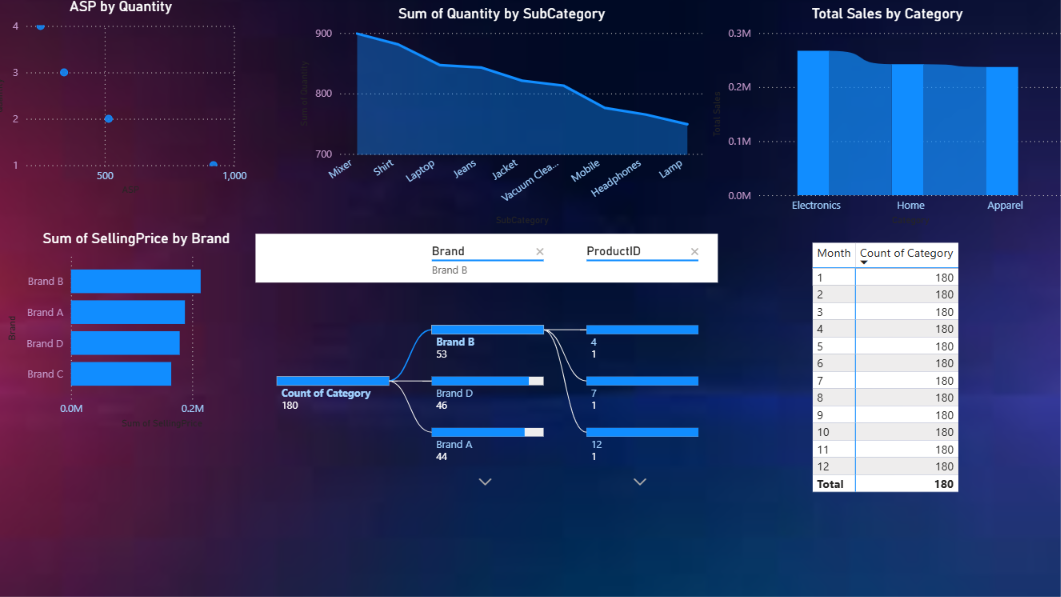

Layout of this report page (visuals, bound fields, positions):
{"tool":"powerbi","page":{"name":"Product & Category","canvas":[1280,720],"ordinal":2},"visuals":[{"type":"scatterChart","fields":{"X":["Measures (2).ASP"],"Y":["Sales_Fact.Quantity"]},"box":[0,9.3,303.5,234.9],"z":0},{"type":"barChart","fields":{"Category":["Product_Dim.Brand"],"Y":["Sum(Product_Dim.SellingPrice)"]},"box":[15.1,279.1,309.3,236],"z":1000},{"type":"areaChart","fields":{"Category":["Product_Dim.SubCategory"],"Y":["Sum(Sales_Fact.Quantity)"]},"box":[354.7,17.4,480.2,261.6],"z":2000},{"type":"ribbonChart","fields":{"Category":["Product_Dim.Category"],"Y":["Measures (2).Total Sales"]},"box":[834.9,17.4,416.3,261.6],"z":3000},{"type":"decompositionTreeVisual","fields":{"Analyze":["CountNonNull(Product_Dim.Category)"],"ExplainBy":["Product_Dim.Brand","Product_Dim.ProductID"]},"box":[303.5,279.1,547.7,314],"z":4000},{"type":"pivotTable","fields":{"Rows":["Calendar_Dim.Month"],"Values":["CountNonNull(Product_Dim.Category)"]},"box":[951.2,289.5,183.7,303.5],"z":5000}]}

Visuals, with their boxes in screenshot pixels (x1, y1, x2, y2), scaled from the page's 1280x720 canvas onto the 1061x597 screenshot:
scatterChart - Measures (2).ASP x Sales_Fact.Quantity: <box>0,8,252,202</box>
barChart - Product_Dim.Brand x Sum(Product_Dim.SellingPrice): <box>13,231,269,427</box>
areaChart - Product_Dim.SubCategory x Sum(Sales_Fact.Quantity): <box>294,14,692,231</box>
ribbonChart - Product_Dim.Category x Measures (2).Total Sales: <box>692,14,1037,231</box>
decompositionTreeVisual - CountNonNull(Product_Dim.Category) x Product_Dim.Brand: <box>252,231,706,492</box>
pivotTable - Calendar_Dim.Month x CountNonNull(Product_Dim.Category): <box>788,240,941,492</box>
